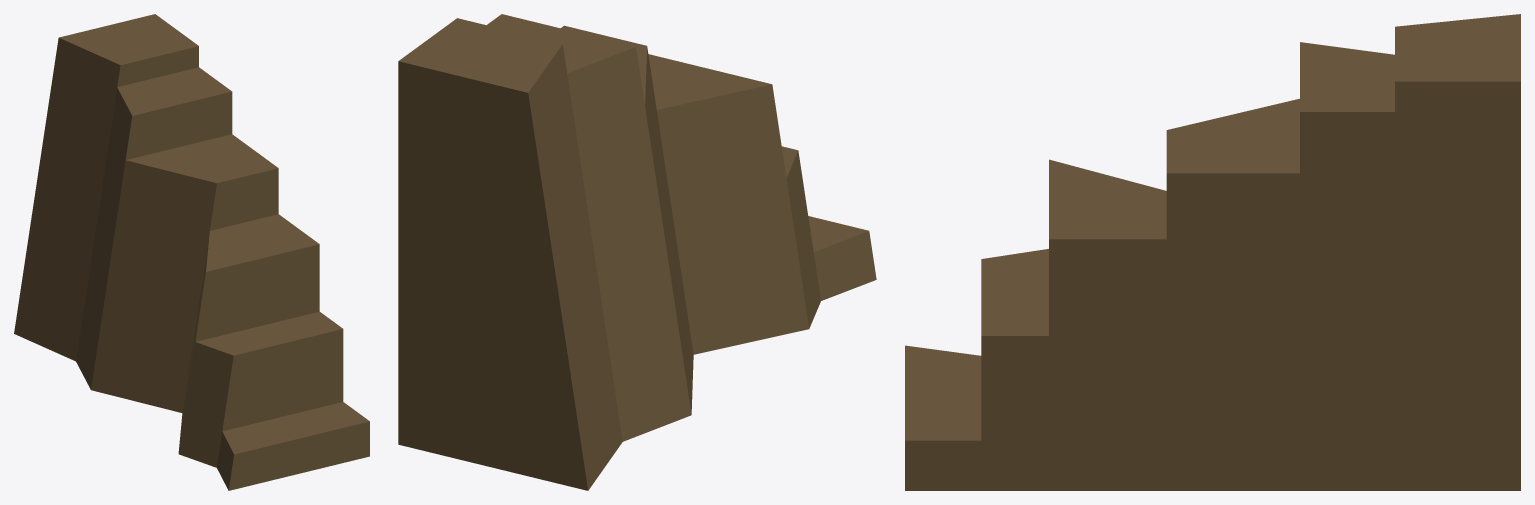
Rendered from Brown_Cliff_End_01.obj.
3 renders of one model, left to right at view 1: azimuth 30°, elevation 25°; view 2: azimuth 150°, elevation 25°; view 3: azimuth 270°, elevation 25°, orthographic. The views are drawn at different scales.
Parts seen in each view (by area): view 1: Mesh1_Brown_Cliff_End_Model; view 2: Mesh1_Brown_Cliff_End_Model; view 3: Mesh1_Brown_Cliff_End_Model.
Boxes of the visible parts, x1,y1,x2,y2 form: Mesh1_Brown_Cliff_End_Model: (14, 14, 369, 490); Mesh1_Brown_Cliff_End_Model: (398, 14, 876, 490); Mesh1_Brown_Cliff_End_Model: (905, 14, 1520, 490).
Size of the model in its own units: 1.14 by 2.2 by 3.
